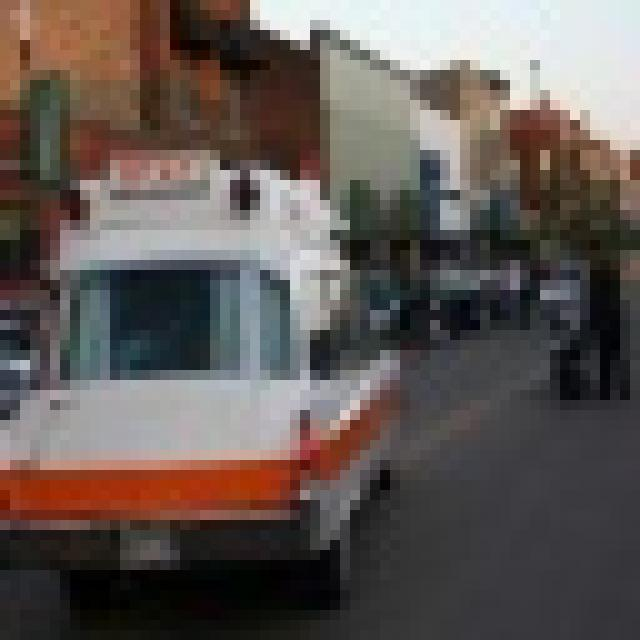Ambulance: (0, 140, 400, 600)
